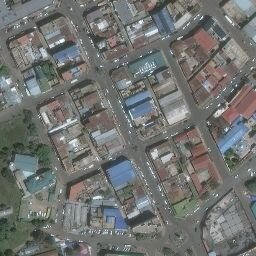tree: (35, 144, 50, 159), (31, 228, 44, 241), (23, 110, 32, 124), (1, 168, 12, 178), (184, 141, 194, 150), (13, 143, 25, 150), (225, 149, 234, 157), (1, 66, 9, 74), (231, 157, 240, 163), (228, 163, 235, 169), (224, 157, 230, 162)
